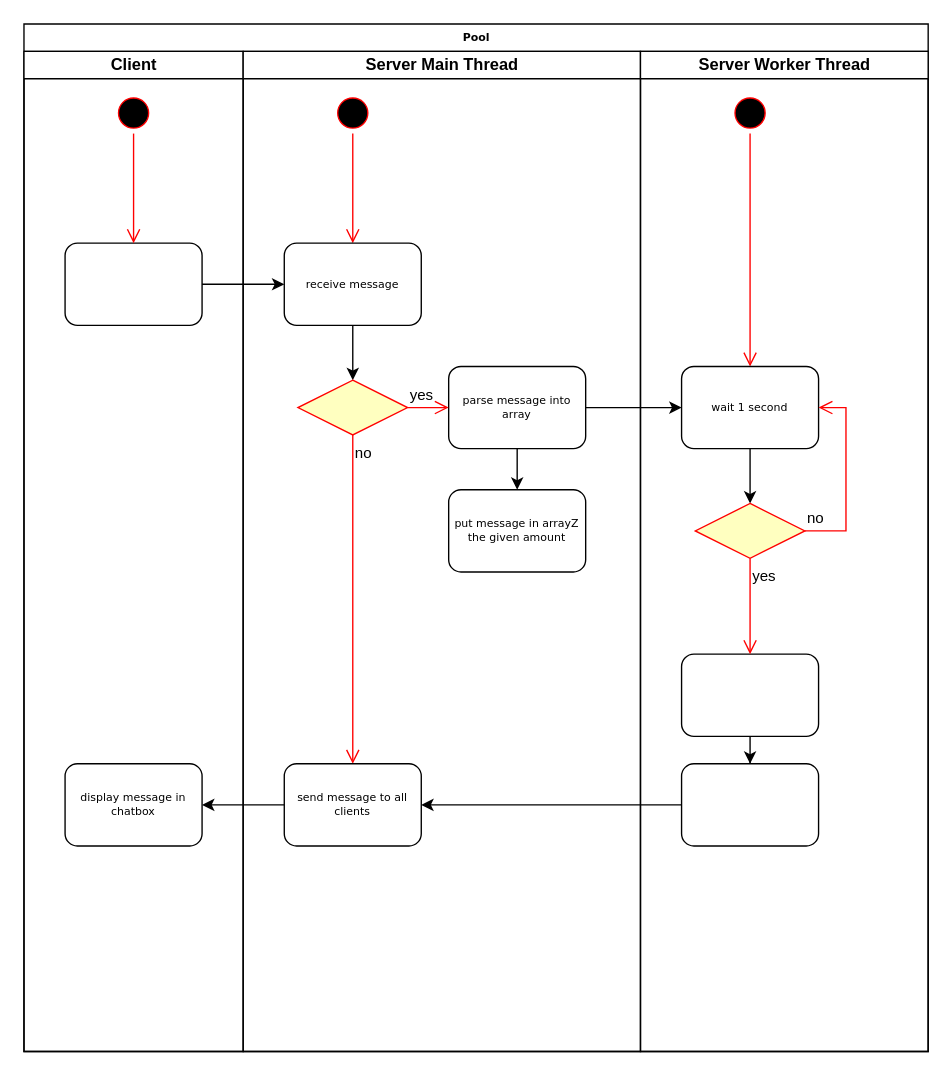
The diagram is 952 pixels wide and 1075 high, and some of its shapes have lost their labels. Here are the shapes that lost their labels. From the top down, the centre of each, then its label:
(x=133, y=283): send message to server
(x=352, y=407): message begins with "Z"
(x=749, y=530): are messages left in arrayZ
(x=749, y=694): remove 1 message from arrayZ
(x=749, y=804): send remaining Zs to Main Thread
